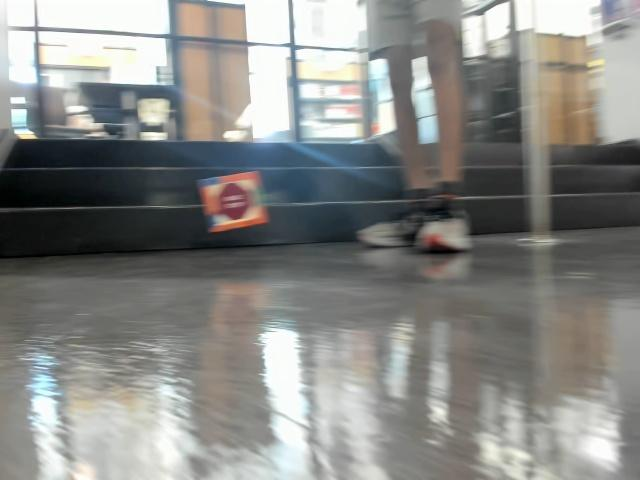Fake Stop: (215, 186, 244, 222)
